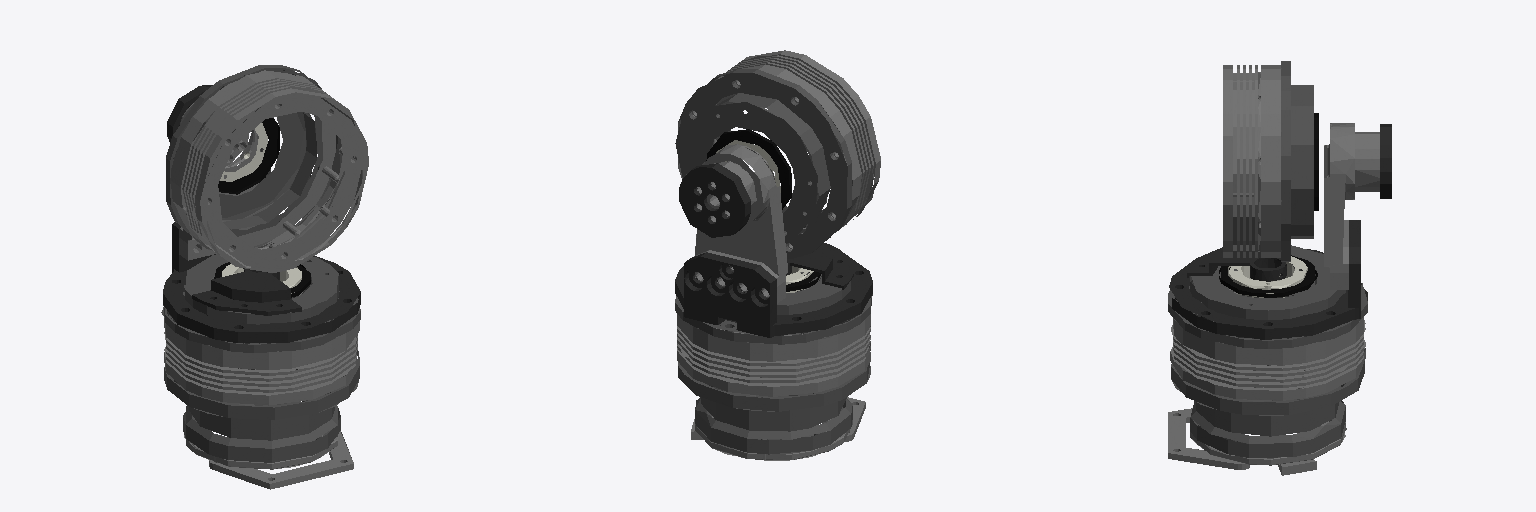
3 renders of one model, left to right at view 1: azimuth 30°, elevation 25°; view 2: azimuth 150°, elevation 25°; view 3: azimuth 270°, elevation 25°, orthographic.
Bounding box in the file's own units: 0.065 × 0.1316 × 0.0724.
Materials: 1 (1 with a texture image).